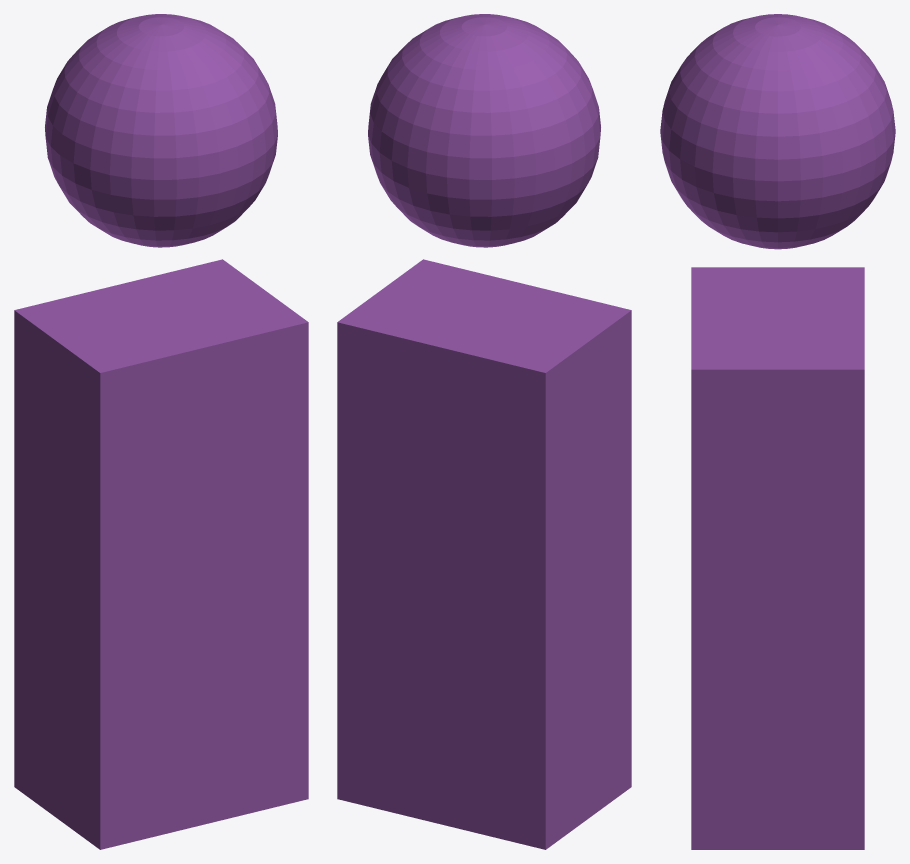
The model's file is monster_corrupted.glb.
The picture shows the model from 3 angles, left to right: view 1: azimuth 30°, elevation 25°; view 2: azimuth 150°, elevation 25°; view 3: azimuth 270°, elevation 25°; orthographic projection.
Parts seen in each view (by area): view 1: monster_corrupted; view 2: monster_corrupted; view 3: monster_corrupted.
Part boxes in pixels (box(x1,y1,x2,y2)): monster_corrupted: box(14, 14, 308, 849); monster_corrupted: box(337, 14, 631, 849); monster_corrupted: box(660, 14, 895, 849).
Bounding box in the file's own units: 0.35 × 1.23 × 0.34.
